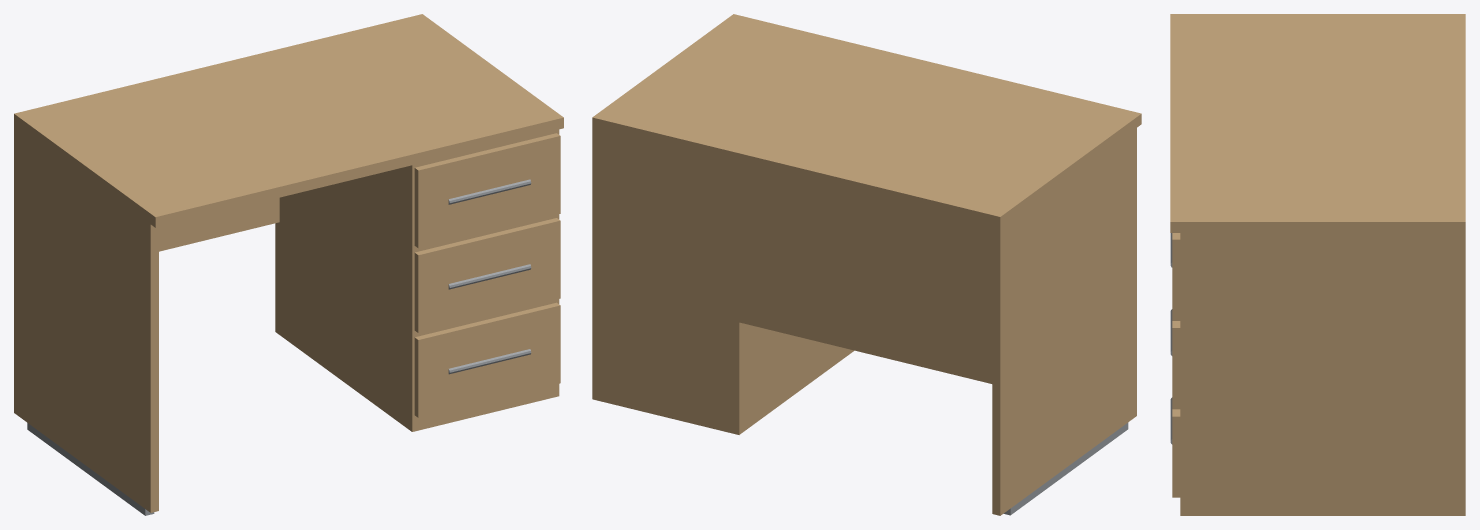
File: original-desk.glb
The picture shows the model from 3 angles, left to right: view 1: azimuth 30°, elevation 25°; view 2: azimuth 150°, elevation 25°; view 3: azimuth 270°, elevation 25°; orthographic projection. The views are drawn at different scales.
Parts seen in each view (by area): view 1: original-desk; view 2: original-desk; view 3: original-desk.
Boxes of the visible parts, x1,y1,x2,y2 form: original-desk: (14, 14, 563, 515); original-desk: (592, 14, 1141, 515); original-desk: (1170, 14, 1465, 515).
Size of the model in its own units: 1 by 0.72 by 0.6.
